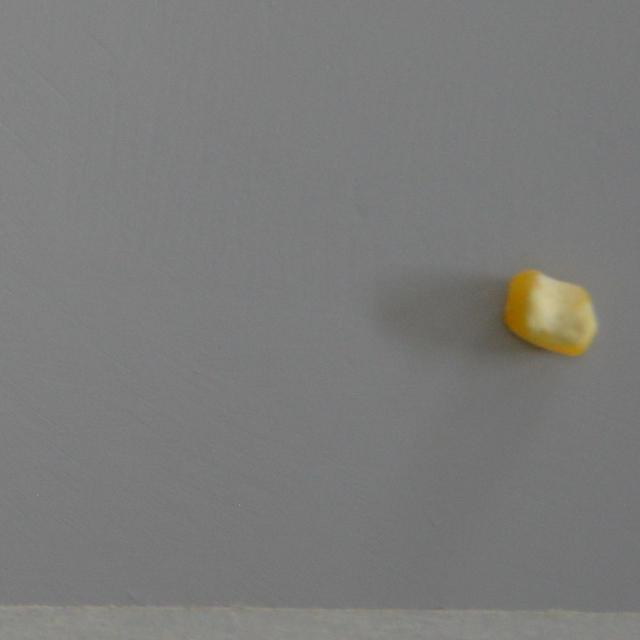no_desgerminado: (496, 262, 601, 364)
